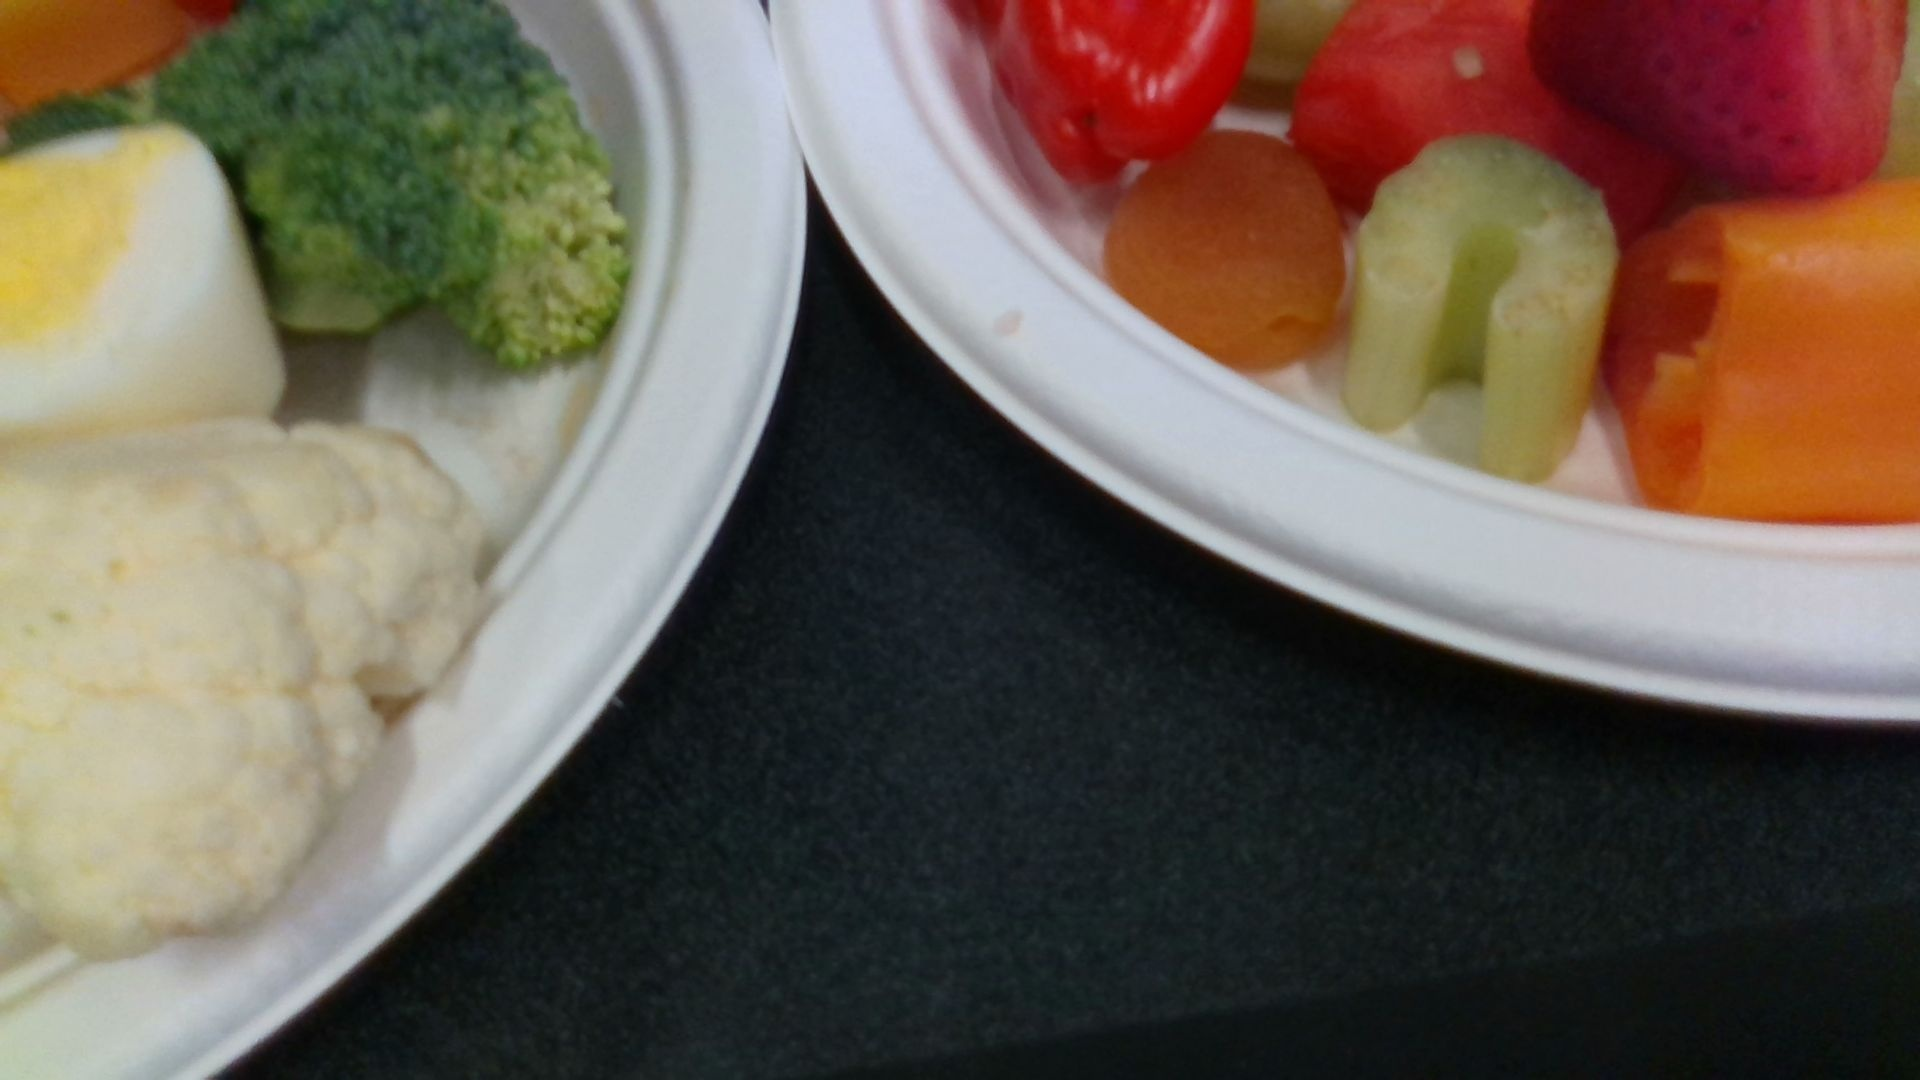apricot: (1102, 133, 1344, 375)
bell_pepper: (1610, 181, 1920, 524)
broccoli: (156, 1, 630, 357)
cauliflower: (1, 423, 487, 956)
celery: (1354, 135, 1615, 480)
cherry_tomato: (992, 1, 1255, 189)
egg: (1, 124, 285, 430)
melon: (1284, 1, 1680, 256)
strawberry: (1531, 1, 1907, 190)
